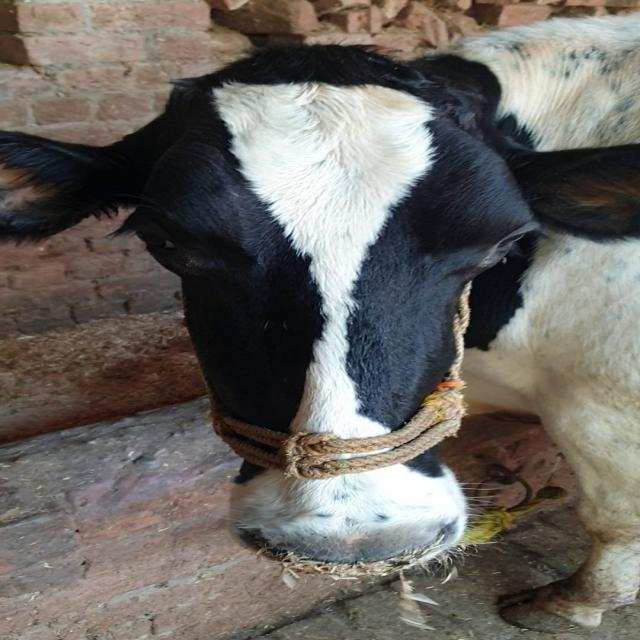cowFace: (116, 53, 536, 552)
